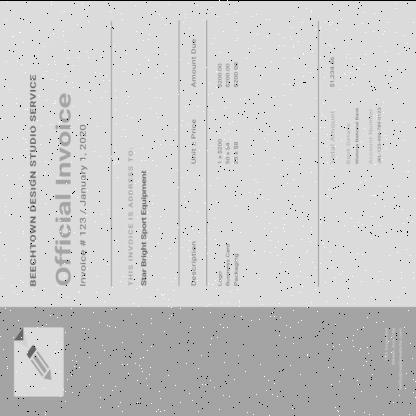Paragraph: (50, 91, 88, 289), (126, 144, 150, 288), (26, 70, 39, 288), (382, 324, 404, 392), (326, 52, 338, 166), (366, 102, 386, 166), (343, 104, 361, 166)
Table: (178, 19, 242, 289)
